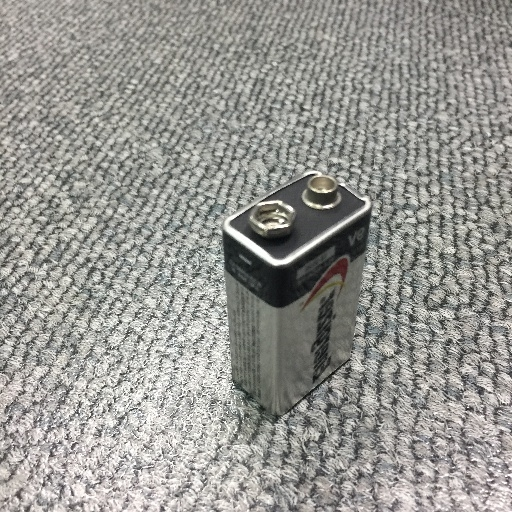Battery_3: (198, 152, 386, 437)
